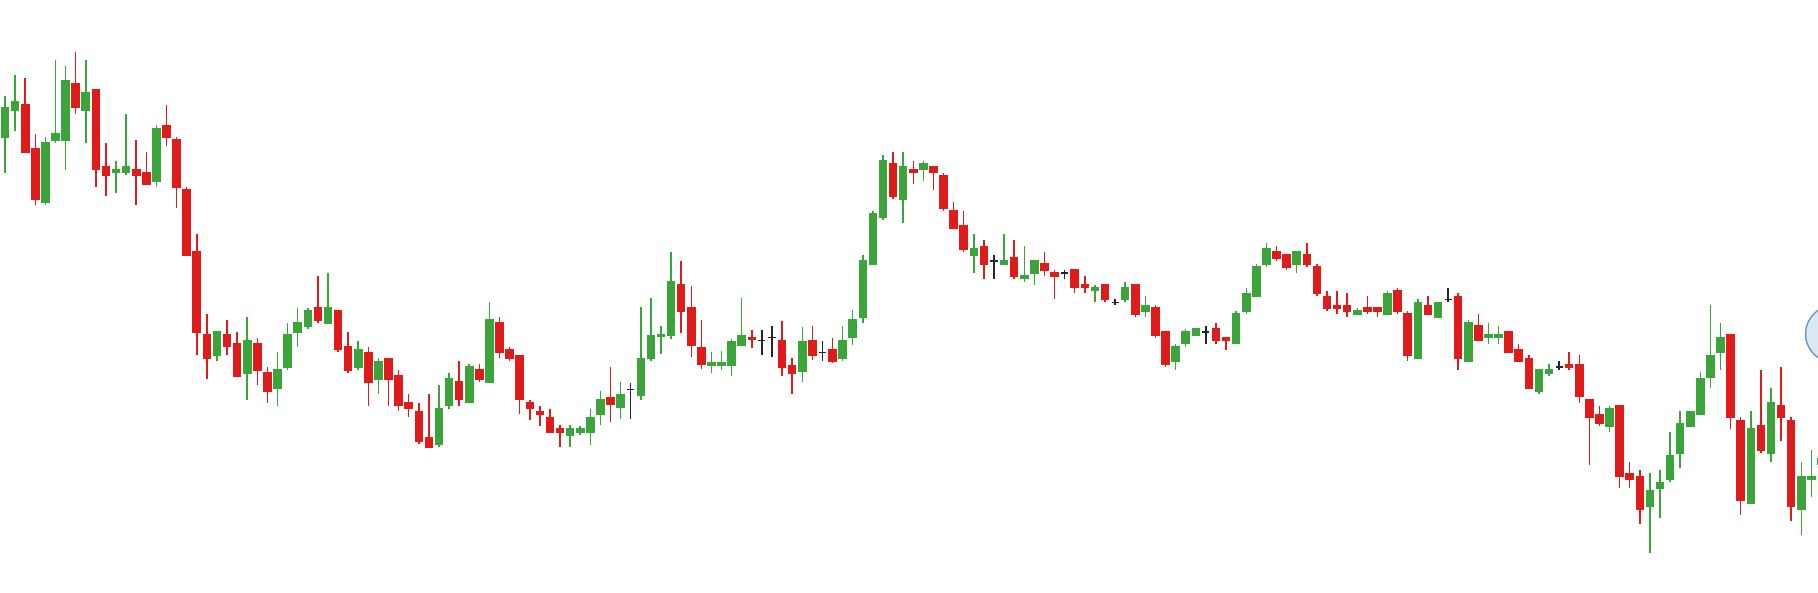buy: (707, 327, 809, 398)
sell: (1564, 304, 1717, 398), (9, 56, 79, 161)
